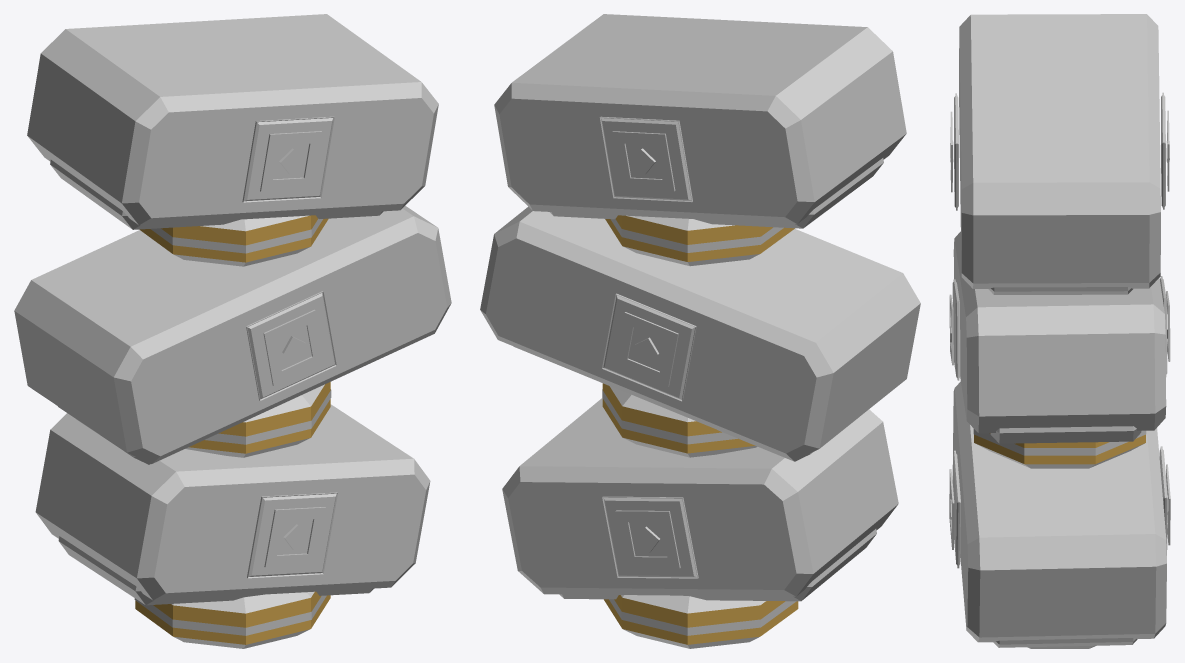
The model's file is wand_motion_08.obj.
3 views of the same model, side by side, from view 1: azimuth 30°, elevation 25°; view 2: azimuth 150°, elevation 25°; view 3: azimuth 270°, elevation 25° (orthographic). The views are drawn at different scales.
Parts seen in each view (by area): view 1: chamfered_seal_tablet_2, chamfered_seal_tablet_1, chamfered_seal_tablet_0, tablet_spacer_0, tablet_spacer_2, inset_rune_socket_5, inset_rune_socket_3, inset_rune_socket_1, tablet_spacer_1, seal_shadow_base_0, seal_shadow_base_2, tablet_spacer_dark_seam_0 (+2 smaller); view 2: chamfered_seal_tablet_2, chamfered_seal_tablet_1, chamfered_seal_tablet_0, tablet_spacer_0, tablet_spacer_2, inset_rune_socket_0, inset_rune_socket_2, inset_rune_socket_4, tablet_spacer_1, seal_shadow_base_2, seal_shadow_base_0, tablet_spacer_dark_seam_0 (+2 smaller); view 3: chamfered_seal_tablet_2, chamfered_seal_tablet_0, chamfered_seal_tablet_1, tablet_spacer_1, seal_shadow_base_1, tablet_spacer_dark_seam_1, seal_shadow_base_2, seal_shadow_base_0, inset_rune_socket_1, inset_rune_socket_3, inset_rune_socket_4, inset_rune_socket_5 (+1 smaller).
Boxes of the visible parts, <box> form: chamfered_seal_tablet_2: <box>27,14,438,225</box>; chamfered_seal_tablet_1: <box>14,205,451,463</box>; chamfered_seal_tablet_0: <box>35,404,430,600</box>; tablet_spacer_0: <box>135,591,330,648</box>; tablet_spacer_2: <box>139,215,328,266</box>; inset_rune_socket_5: <box>242,116,334,202</box>; inset_rune_socket_3: <box>246,291,336,400</box>; inset_rune_socket_1: <box>247,492,337,578</box>; tablet_spacer_1: <box>185,382,330,457</box>; seal_shadow_base_0: <box>58,536,373,605</box>; seal_shadow_base_2: <box>50,160,383,229</box>; tablet_spacer_dark_seam_0: <box>134,595,326,635</box>; chamfered_seal_tablet_2: <box>494,14,906,224</box>; chamfered_seal_tablet_1: <box>480,206,920,460</box>; chamfered_seal_tablet_0: <box>502,398,898,596</box>; tablet_spacer_0: <box>604,595,798,648</box>; tablet_spacer_2: <box>605,215,794,266</box>; inset_rune_socket_0: <box>602,496,698,578</box>; inset_rune_socket_2: <box>602,293,696,401</box>; inset_rune_socket_4: <box>599,116,692,202</box>; tablet_spacer_1: <box>602,383,757,457</box>; seal_shadow_base_2: <box>550,158,883,228</box>; seal_shadow_base_0: <box>559,529,876,601</box>; tablet_spacer_dark_seam_0: <box>609,599,796,635</box>; chamfered_seal_tablet_2: <box>959,14,1160,288</box>; chamfered_seal_tablet_0: <box>953,381,1166,642</box>; chamfered_seal_tablet_1: <box>953,231,1166,433</box>; tablet_spacer_1: <box>974,433,1145,468</box>; seal_shadow_base_1: <box>990,426,1141,443</box>; tablet_spacer_dark_seam_1: <box>973,429,1146,455</box>; seal_shadow_base_2: <box>988,287,1132,294</box>; seal_shadow_base_0: <box>993,638,1137,647</box>; inset_rune_socket_1: <box>952,450,960,568</box>; inset_rune_socket_3: <box>952,279,960,380</box>; inset_rune_socket_4: <box>1161,92,1165,209</box>; inset_rune_socket_5: <box>954,93,958,210</box>.
Size of the model in its own units: 0.1986 by 0.314 by 0.1148.
